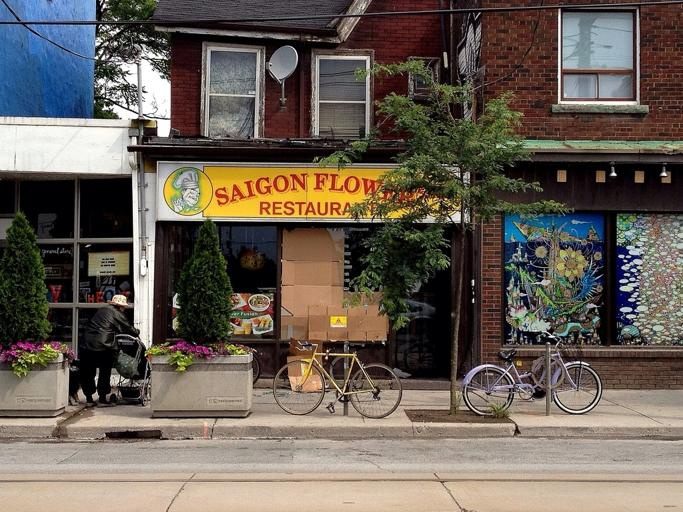non-vehicle: (460, 330, 602, 415), (272, 339, 402, 418), (252, 348, 260, 384)
